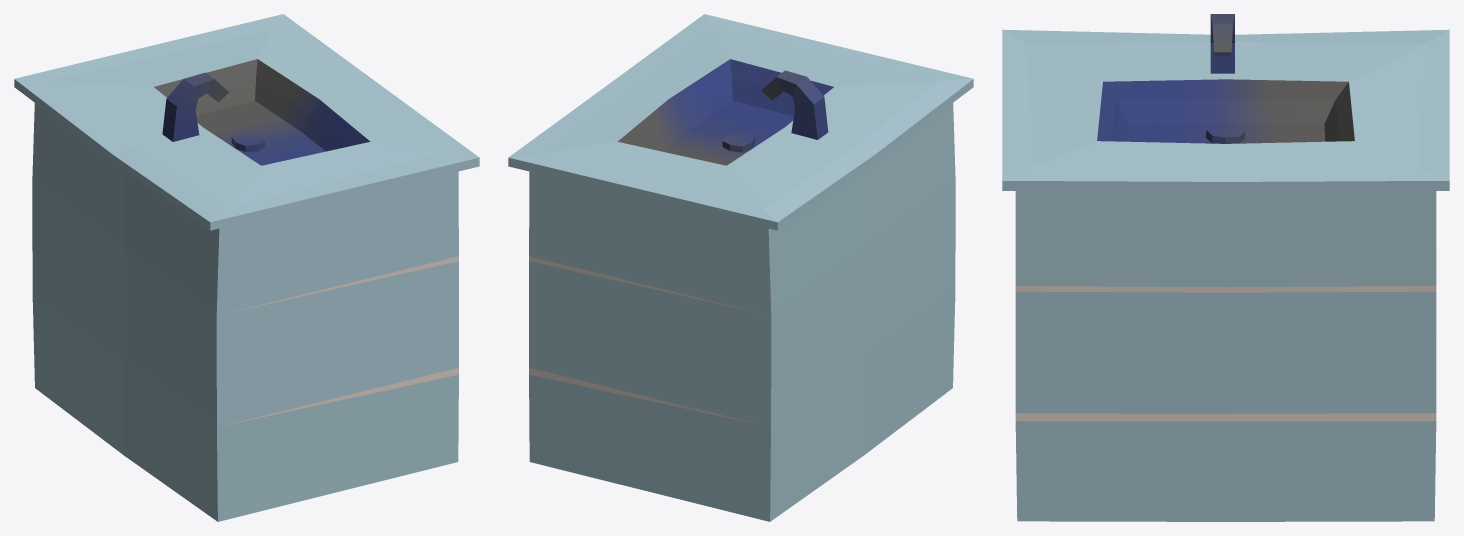
File: Bathroom_Tap.fbx
3 views of the same model, side by side, from view 1: azimuth 30°, elevation 25°; view 2: azimuth 150°, elevation 25°; view 3: azimuth 270°, elevation 25° (orthographic). The views are drawn at different scales.
Parts seen in each view (by area): view 1: Bathroom_Tap; view 2: Bathroom_Tap; view 3: Bathroom_Tap.
Part boxes in pixels (bbox=[...]): Bathroom_Tap: bbox=[14, 14, 479, 521]; Bathroom_Tap: bbox=[508, 14, 973, 521]; Bathroom_Tap: bbox=[1002, 14, 1449, 521].
Size of the model in its own units: 122 by 155 by 153.
